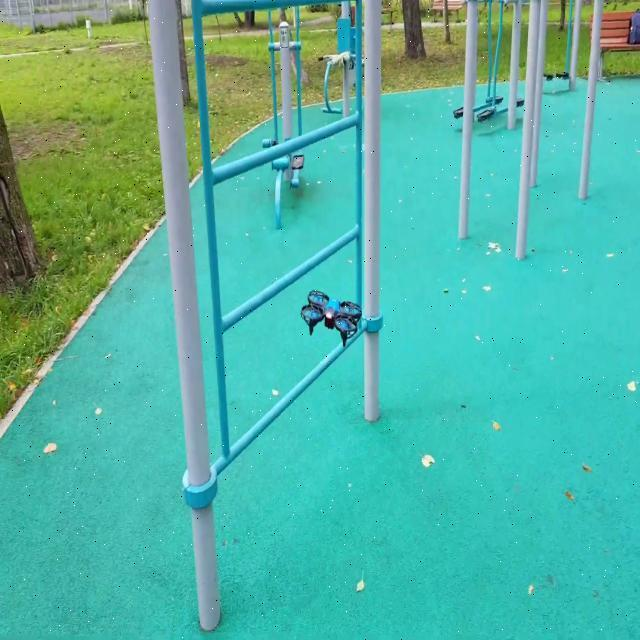Drons: (295, 288, 364, 350)
